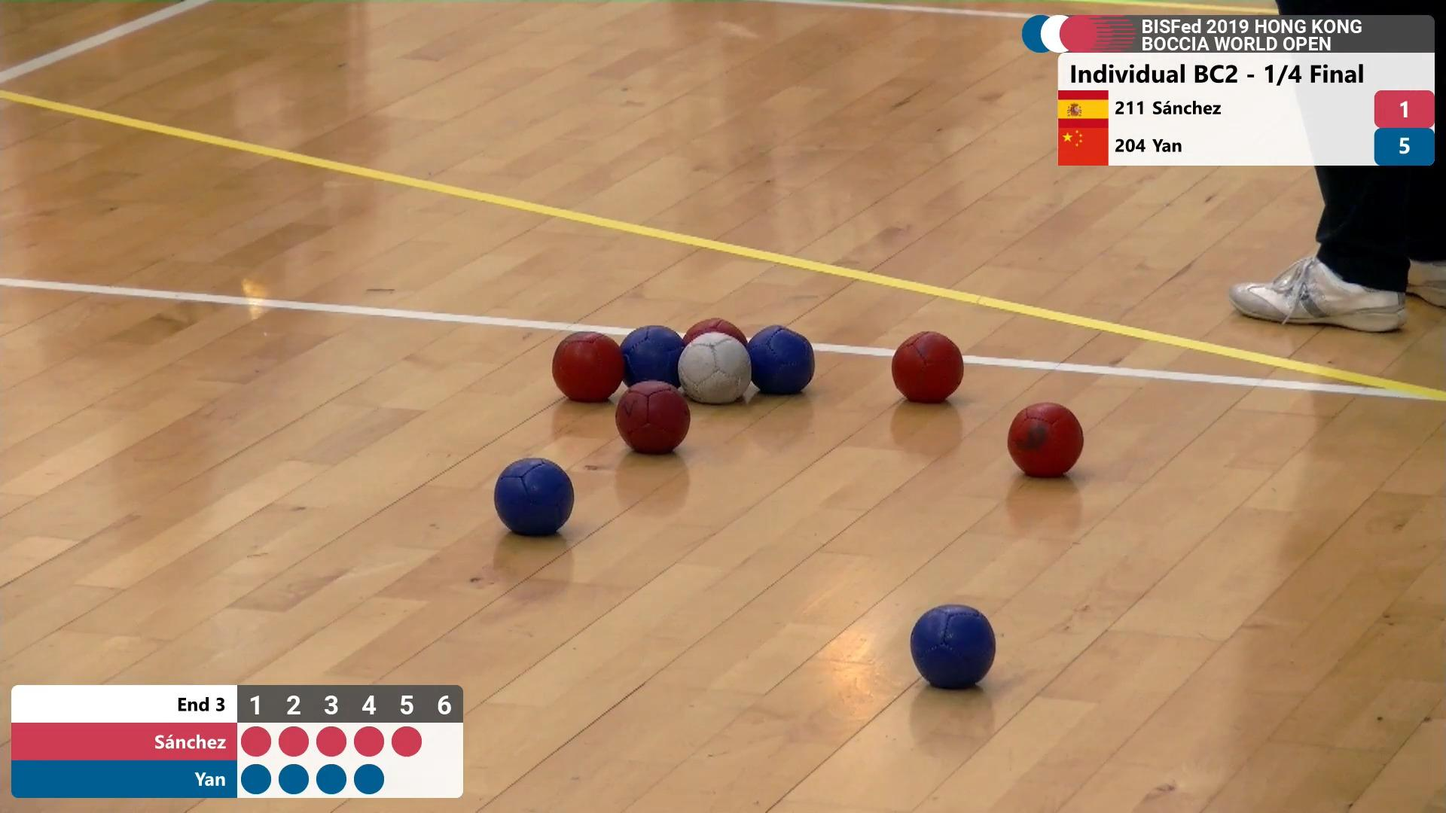blue_ball: (903, 596, 1003, 702), (487, 448, 580, 545), (744, 319, 827, 405), (616, 316, 691, 399)
red_ball: (1003, 397, 1090, 490), (884, 325, 972, 416), (610, 377, 694, 459), (546, 327, 627, 406)
white_ball: (675, 327, 755, 409)
